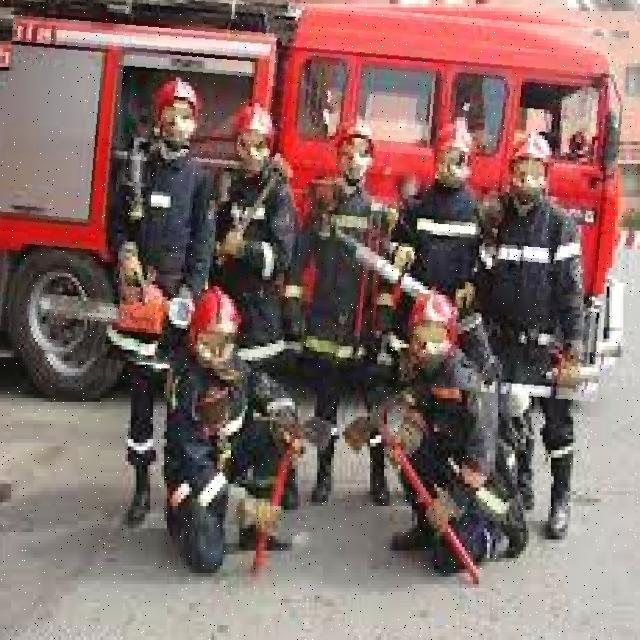pompier: (0, 0, 623, 389)
